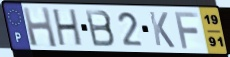2: (117, 11, 145, 48)
B: (84, 9, 117, 49)
F: (173, 10, 200, 50)
H: (20, 5, 59, 49), (52, 8, 84, 48)
K: (147, 10, 177, 49)
